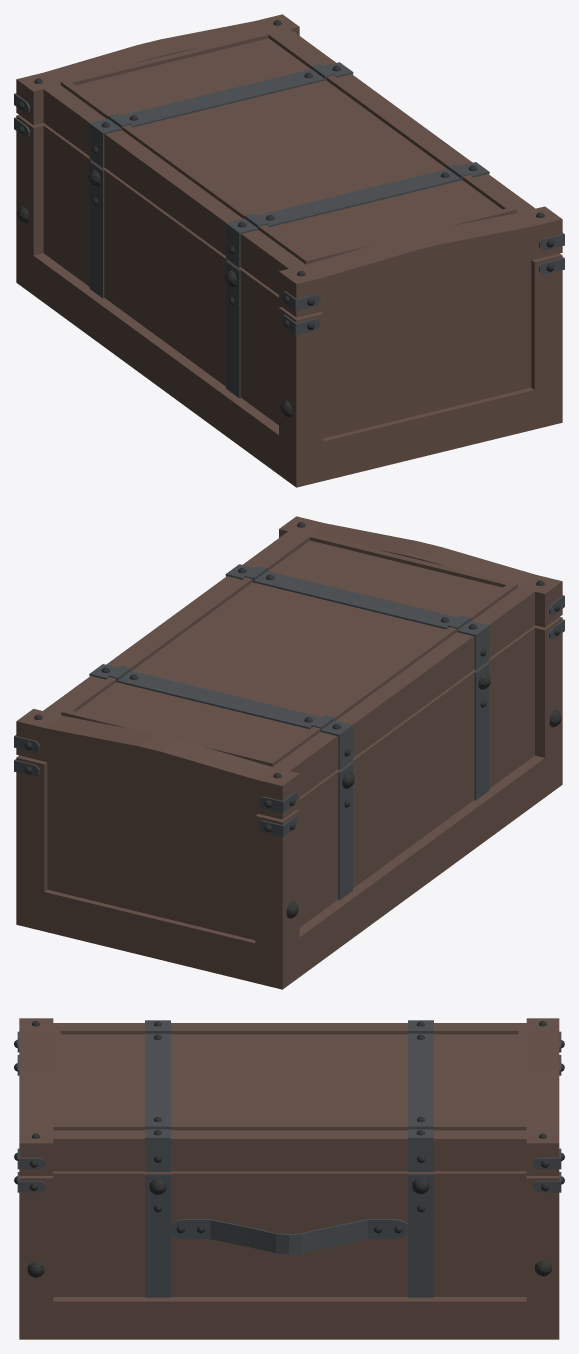
Rendered from Briefcase Chest.fbx.
3 views of the same model, one above another, from view 1: azimuth 30°, elevation 25°; view 2: azimuth 150°, elevation 25°; view 3: azimuth 270°, elevation 25° (orthographic). The views are drawn at different scales.
Visible parts, largest first — view 1: Base Chest, Lid, Top Metal Straps, Side Metal Straps, Side Small Lid Metal Straps, Horizontal Side Strap Chest (2).001, Horizontal Side Strap Chest (2).002, Top Overlap Metal Straps; view 2: Base Chest, Lid, Top Metal Straps, Side Metal Straps, Side Small Lid Metal Straps, Horizontal Side Strap Chest (2).001, Horizontal Side Strap Chest (2).002, Top Overlap Metal Straps; view 3: Base Chest, Lid, Side Metal Straps, Top Metal Straps, Handle, Side Small Lid Metal Straps, Top Overlap Metal Straps, Horizontal Side Strap Chest (2).001, Horizontal Side Strap Chest (2).002, Side Big Nail On Metal Strap, Side Big Nail.
Boxes of the visible parts, x1,y1,x2,y2 form: Base Chest: [16, 115, 562, 487]; Lid: [16, 14, 562, 317]; Top Metal Straps: [89, 62, 489, 234]; Side Metal Straps: [89, 161, 240, 398]; Side Small Lid Metal Straps: [89, 74, 489, 267]; Horizontal Side Strap Chest (2).001: [14, 93, 564, 310]; Horizontal Side Strap Chest (2).002: [14, 117, 564, 334]; Top Overlap Metal Straps: [108, 64, 470, 227]; Base Chest: [16, 617, 562, 989]; Lid: [16, 516, 562, 819]; Top Metal Straps: [89, 564, 489, 736]; Side Metal Straps: [338, 663, 489, 900]; Side Small Lid Metal Straps: [89, 576, 489, 769]; Horizontal Side Strap Chest (2).001: [14, 595, 564, 812]; Horizontal Side Strap Chest (2).002: [14, 619, 564, 836]; Top Overlap Metal Straps: [108, 566, 470, 729]; Base Chest: [19, 1171, 559, 1339]; Lid: [19, 1018, 559, 1175]; Side Metal Straps: [145, 1174, 433, 1297]; Top Metal Straps: [145, 1020, 433, 1139]; Handle: [171, 1219, 407, 1254]; Side Small Lid Metal Straps: [145, 1139, 433, 1171]; Top Overlap Metal Straps: [145, 1026, 433, 1129]; Horizontal Side Strap Chest (2).001: [17, 1031, 561, 1169]; Horizontal Side Strap Chest (2).002: [17, 1055, 561, 1192]; Side Big Nail On Metal Strap: [149, 1178, 428, 1194]; Side Big Nail: [27, 1260, 551, 1277].
Size of the model in its own units: 0.5013 by 0.3363 by 0.8349.
